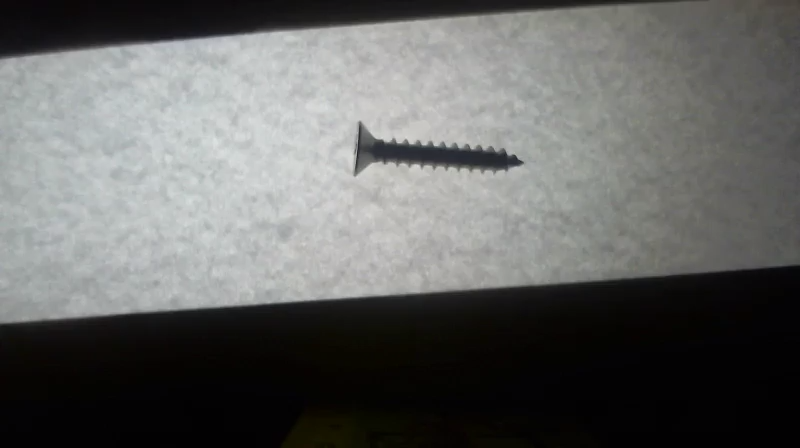S001: (349, 121, 527, 183)
